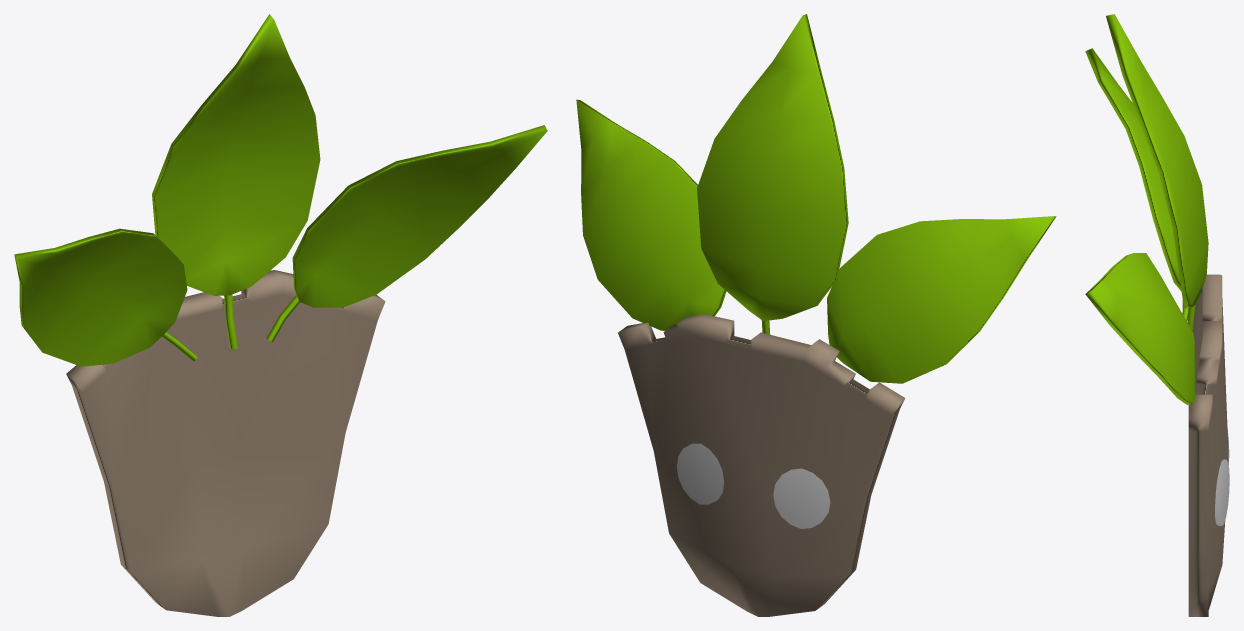
Rendered from Mask_v1.fbx.
3 views of the same model, side by side, from view 1: azimuth 30°, elevation 25°; view 2: azimuth 150°, elevation 25°; view 3: azimuth 270°, elevation 25° (orthographic). The views are drawn at different scales.
Parts seen in each view (by area): view 1: Mask, Leaf_1, Leaf_2, Leaf_3; view 2: Mask, Leaf_1, Leaf_3, Leaf_2, Eyes_2, Eyes; view 3: Mask, Leaf_1, Leaf_2, Leaf_3, Eyes.
Boxes of the visible parts, box(x1,y1,x2,y2) form: Mask: box(66, 270, 385, 616); Leaf_1: box(152, 14, 320, 349); Leaf_2: box(266, 125, 547, 342); Leaf_3: box(14, 228, 197, 366); Mask: box(618, 314, 905, 616); Leaf_1: box(697, 14, 848, 334); Leaf_3: box(827, 216, 1056, 383); Leaf_2: box(576, 99, 726, 330); Eyes_2: box(773, 468, 830, 528); Eyes: box(676, 443, 724, 504); Mask: box(1188, 274, 1228, 616); Leaf_1: box(1106, 14, 1208, 330); Leaf_2: box(1085, 253, 1195, 404); Leaf_3: box(1085, 48, 1188, 320); Eyes: box(1215, 459, 1229, 525).
Bounding box in the file's own units: 40.73 × 46.36 × 10.21.
